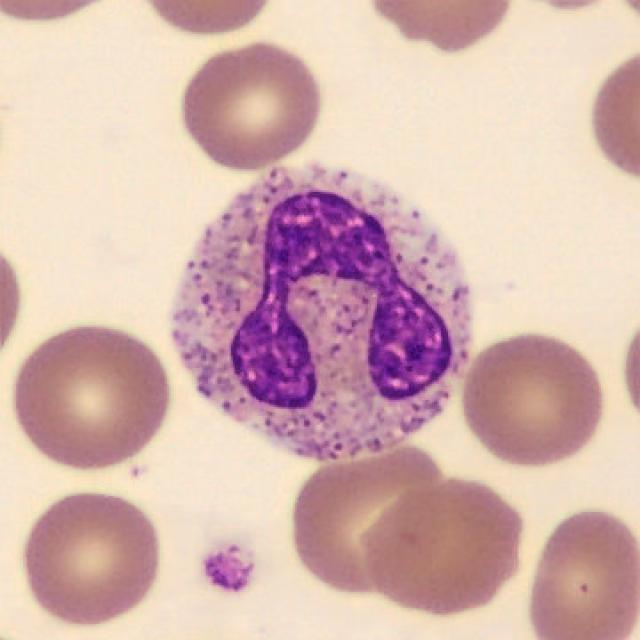Neutrofilo segmentado: (169, 162, 471, 464)
